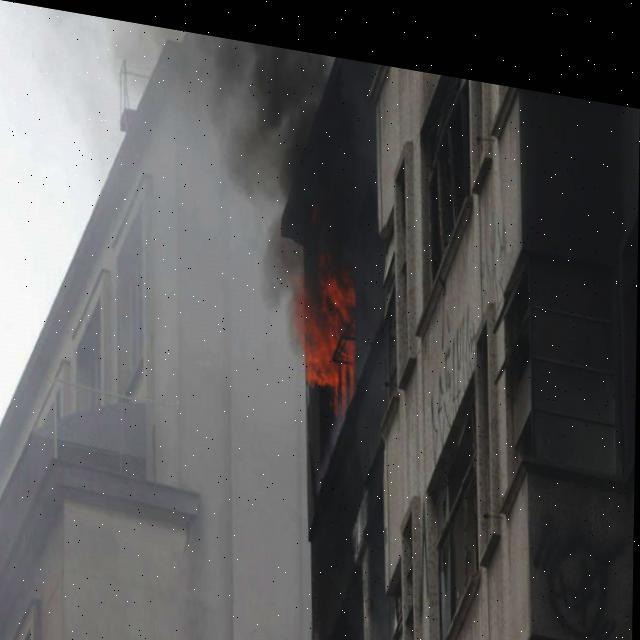Fire: (298, 234, 362, 405)
